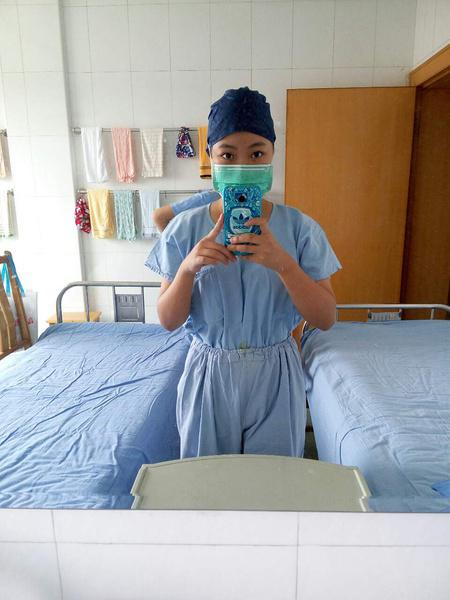OK: (213, 137, 273, 197)
